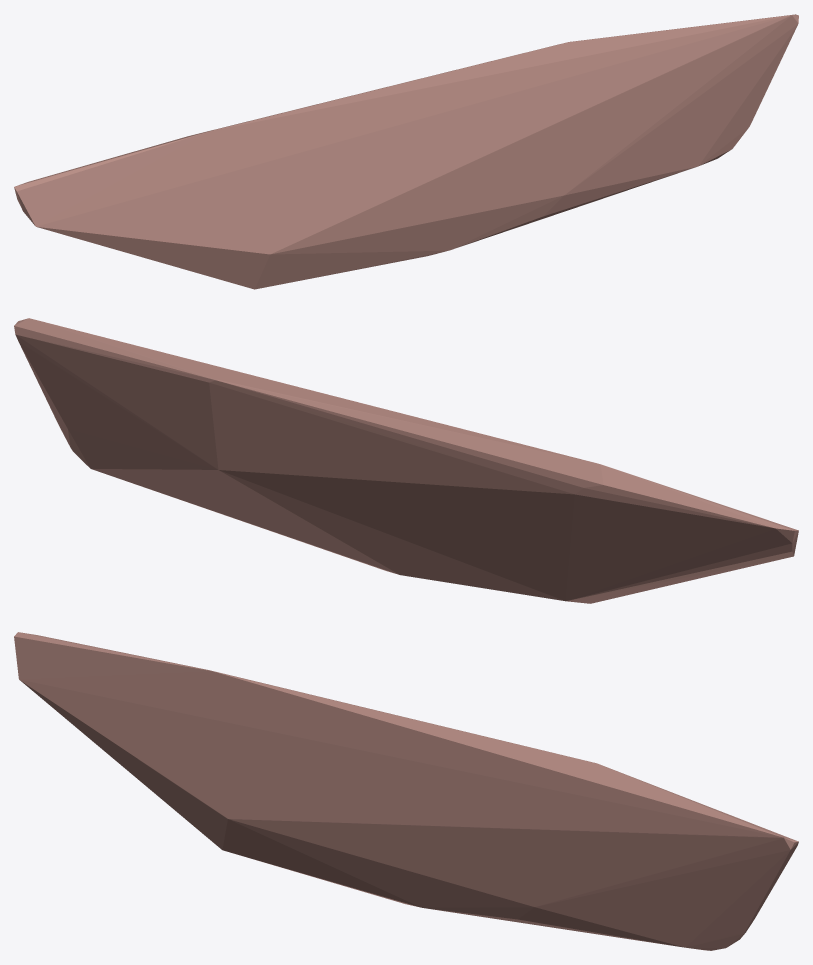
File: handTool_pliers_groove_joint_12in_b01.glb
The picture shows the model from 3 angles, top to bottom: view 1: azimuth 30°, elevation 25°; view 2: azimuth 150°, elevation 25°; view 3: azimuth 330°, elevation 25°; orthographic projection. The views are drawn at different scales.
Visible parts, largest first — view 1: geometry_0; view 2: geometry_0; view 3: geometry_0.
Boxes of the visible parts, <box> form: geometry_0: <box>14,14,798,289</box>; geometry_0: <box>14,318,798,603</box>; geometry_0: <box>14,632,798,950</box>.
Bounding box in the file's own units: 0.4794 × 0.0977 × 0.0364.
